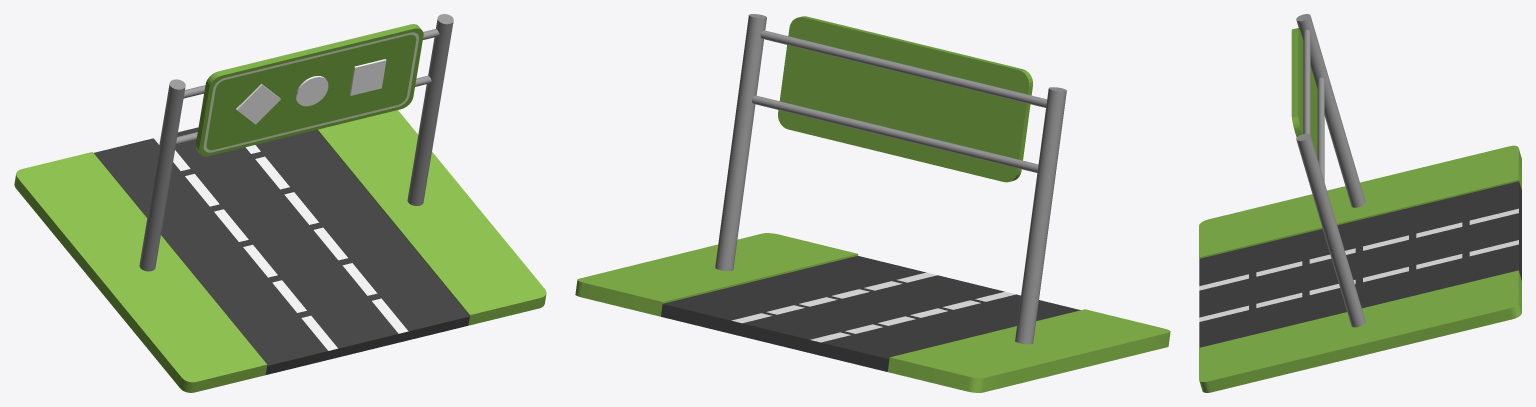
File: motorway.glb
The picture shows the model from 3 angles, left to right: view 1: azimuth 30°, elevation 25°; view 2: azimuth 150°, elevation 25°; view 3: azimuth 270°, elevation 25°; orthographic projection. The views are drawn at different scales.
Parts seen in each view (by area): view 1: Cube.750; view 2: Cube.750; view 3: Cube.750.
Part boxes in pixels (x1,y1,x2,y2): Cube.750: [14, 14, 546, 392]; Cube.750: [575, 14, 1170, 392]; Cube.750: [1199, 14, 1521, 392].
Bounding box in the file's own units: 2.09 × 1.45 × 1.76.
Materials: 1 (1 with a texture image).
